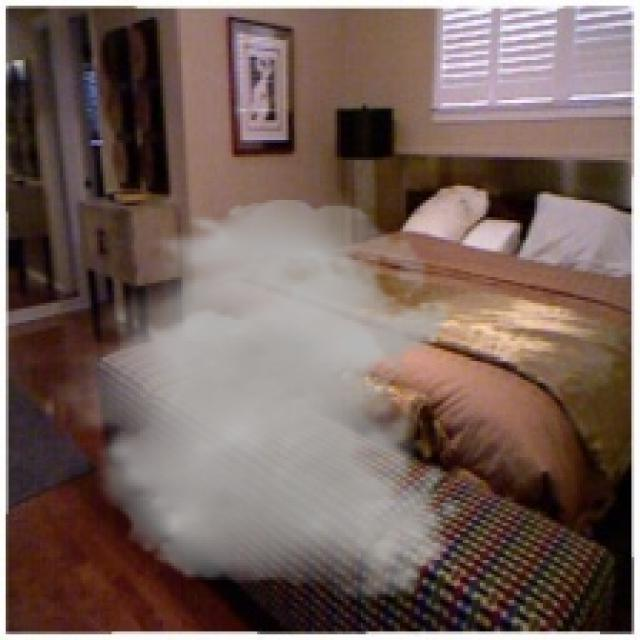Smoke: (43, 200, 463, 600)
